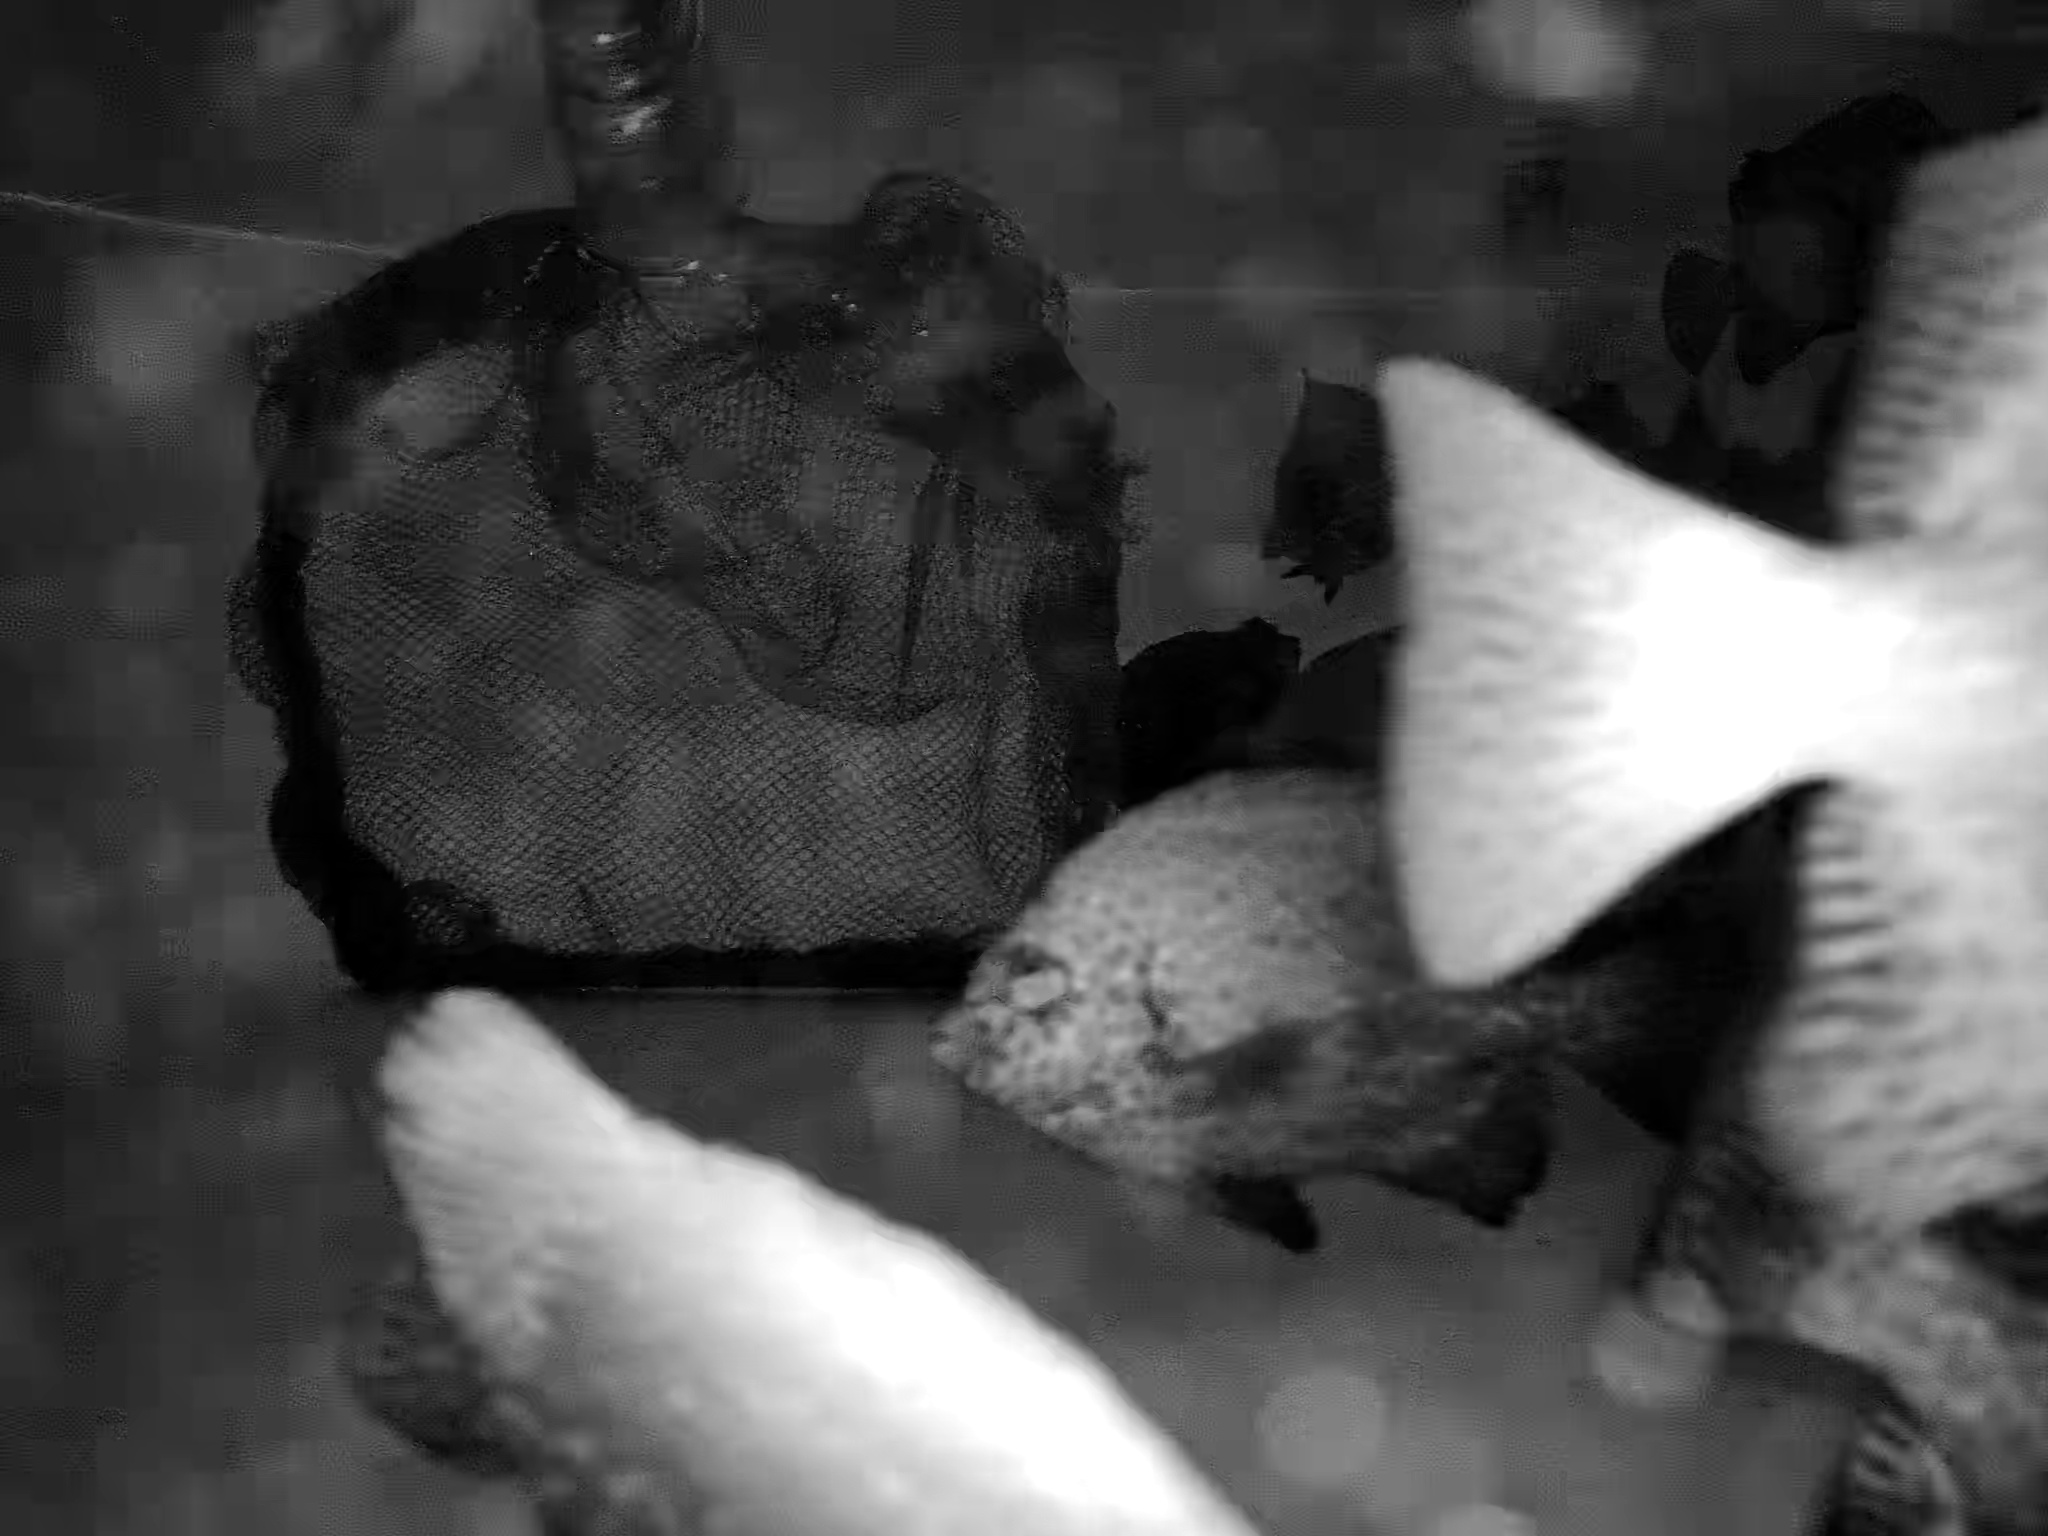fish: (1379, 113, 2048, 1249), (318, 1008, 1276, 1536), (916, 752, 1608, 1267), (1666, 1167, 2048, 1536), (1664, 152, 2048, 373), (1051, 649, 1484, 779), (1279, 382, 1480, 657)
